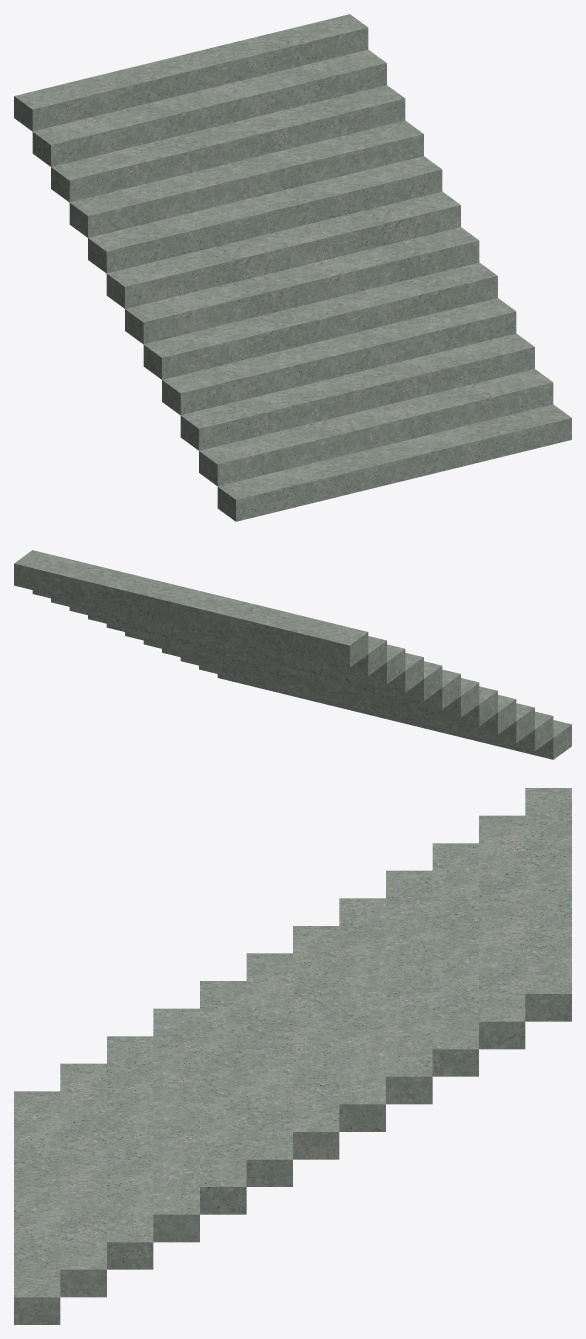
File: Soupstairs001.glb
The picture shows the model from 3 angles, top to bottom: view 1: azimuth 30°, elevation 25°; view 2: azimuth 150°, elevation 25°; view 3: azimuth 270°, elevation 25°; orthographic projection. The views are drawn at different scales.
Visible parts, largest first — view 1: Soupstairs001_high_1; view 2: Soupstairs001_high_1; view 3: Soupstairs001_high_1.
Boxes of the visible parts, x1,y1,x2,y2 form: Soupstairs001_high_1: (14, 14, 571, 521); Soupstairs001_high_1: (14, 550, 571, 759); Soupstairs001_high_1: (14, 788, 571, 1324).
Size of the model in its own units: 2.25 by 1.69 by 2.58.
Materials: 1 (1 with a texture image).
